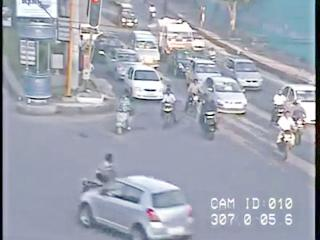Car: (84, 175, 195, 240), (197, 76, 248, 115), (123, 65, 164, 100), (282, 83, 315, 125), (222, 57, 262, 91), (156, 17, 195, 51), (128, 30, 160, 69), (94, 34, 129, 63), (183, 56, 219, 84), (108, 49, 138, 78), (170, 49, 195, 77), (115, 2, 138, 28)
Major Accident: (73, 153, 198, 240)
Motor: (76, 156, 137, 193), (273, 113, 295, 159), (289, 101, 310, 146), (114, 96, 134, 134), (199, 103, 217, 139), (271, 91, 287, 125), (185, 79, 201, 113), (161, 98, 177, 126), (145, 2, 158, 21), (207, 47, 217, 61)
